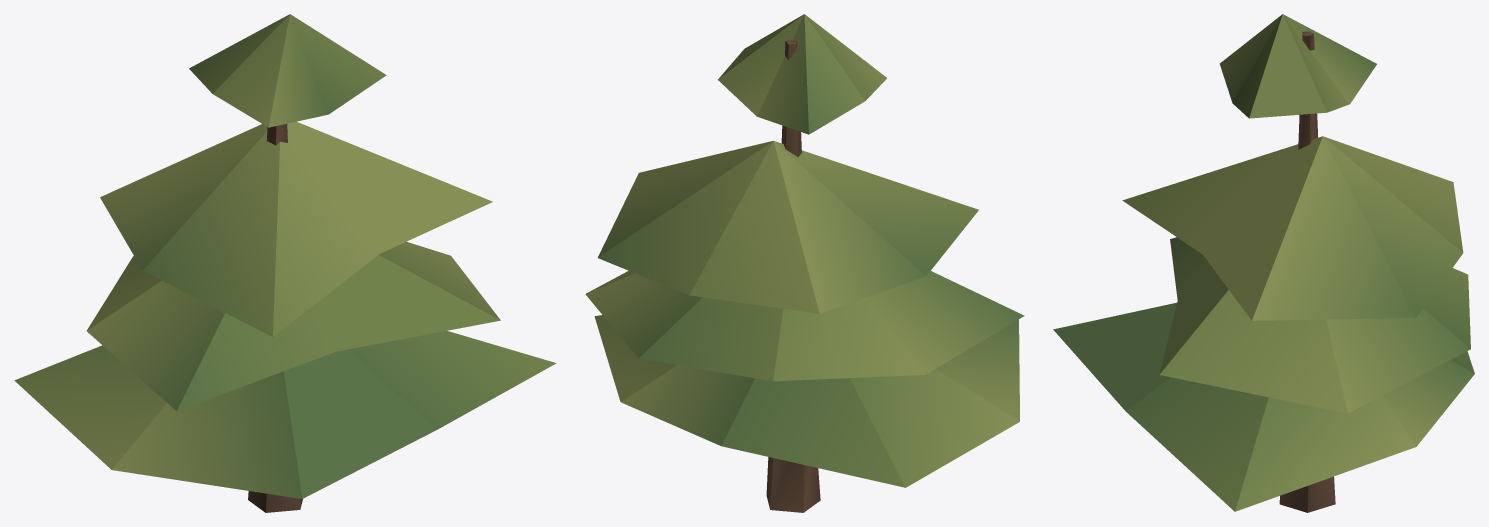
File: ENV_Pine_C_LOD1.glb
The picture shows the model from 3 angles, left to right: view 1: azimuth 30°, elevation 25°; view 2: azimuth 150°, elevation 25°; view 3: azimuth 270°, elevation 25°; orthographic projection. The views are drawn at different scales.
Visible parts, largest first — view 1: ENV_Pine_C_LOD1_canopy, ENV_Pine_C_LOD1_trunk; view 2: ENV_Pine_C_LOD1_canopy, ENV_Pine_C_LOD1_trunk; view 3: ENV_Pine_C_LOD1_canopy, ENV_Pine_C_LOD1_trunk.
Boxes of the visible parts, bbox=[...] form: ENV_Pine_C_LOD1_canopy: bbox=[14, 14, 556, 498]; ENV_Pine_C_LOD1_trunk: bbox=[248, 123, 302, 512]; ENV_Pine_C_LOD1_canopy: bbox=[585, 14, 1024, 487]; ENV_Pine_C_LOD1_trunk: bbox=[766, 39, 820, 512]; ENV_Pine_C_LOD1_canopy: bbox=[1053, 14, 1474, 511]; ENV_Pine_C_LOD1_trunk: bbox=[1279, 31, 1335, 512].
Bounding box in the file's own units: 0.9338 × 1 × 0.7865.
